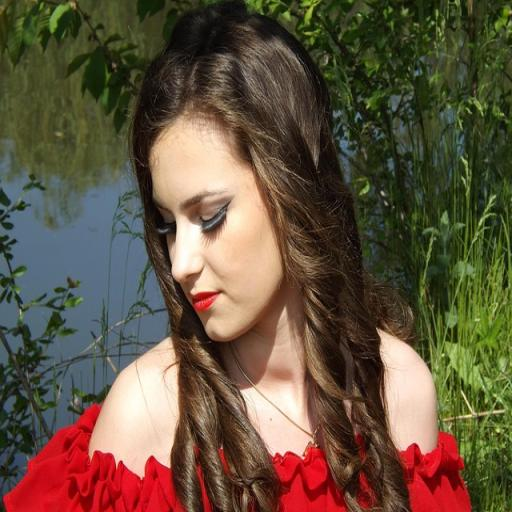lipstick: (191, 293, 219, 311)
